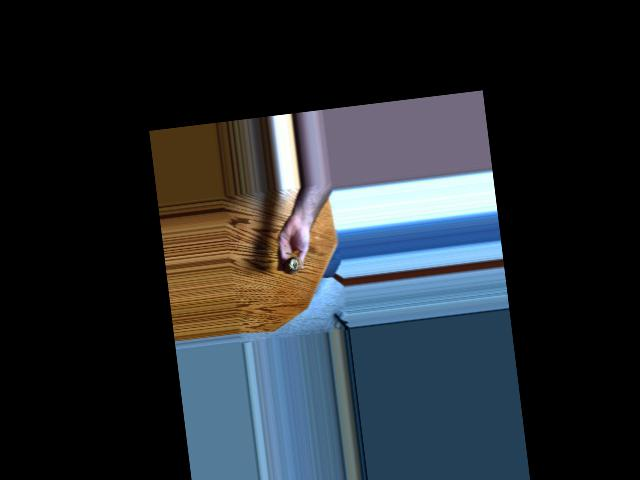sweet_potato: (286, 256, 304, 277)
